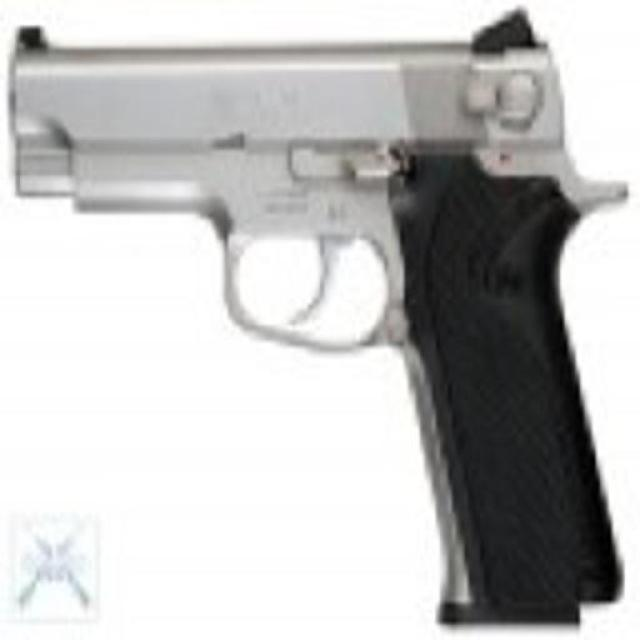pistol: (7, 21, 627, 633)
